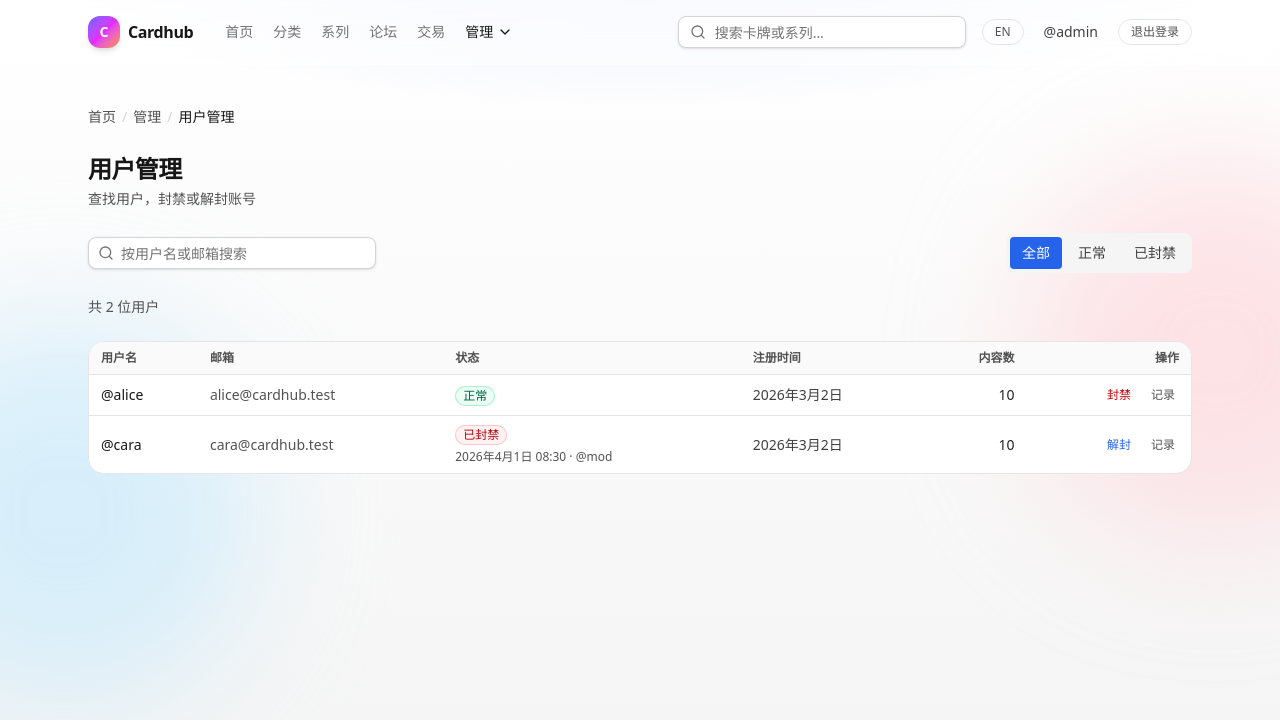
Scenario: AdminUsersPage dialog focus return › returns focus to the row button after mouse open and cancel close
The width and height of the screenshot is (1280, 720).
Click the button with aria-label "封禁 @alice".
click(1119, 395)  # box [1103,383,1135,407]
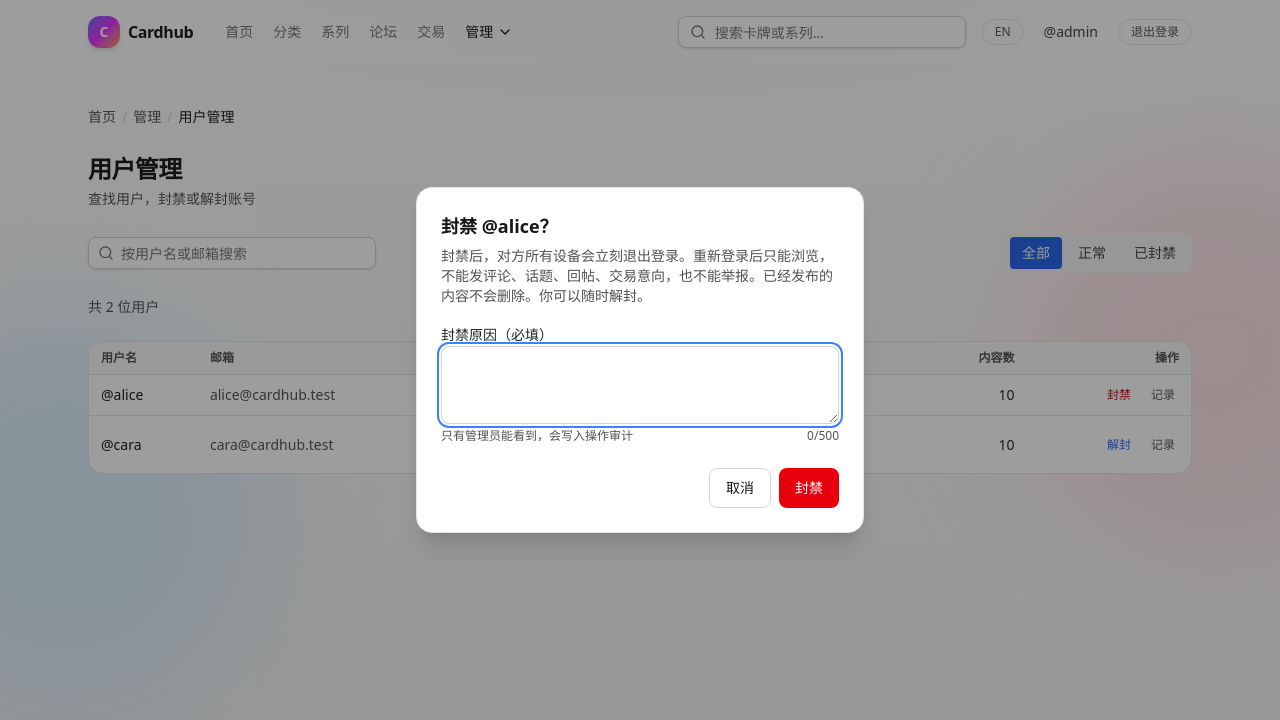
Expected: the dialog is shown, [416,187,864,533]
Click the button "取消".
click(740, 488)  # box [709,468,771,508]
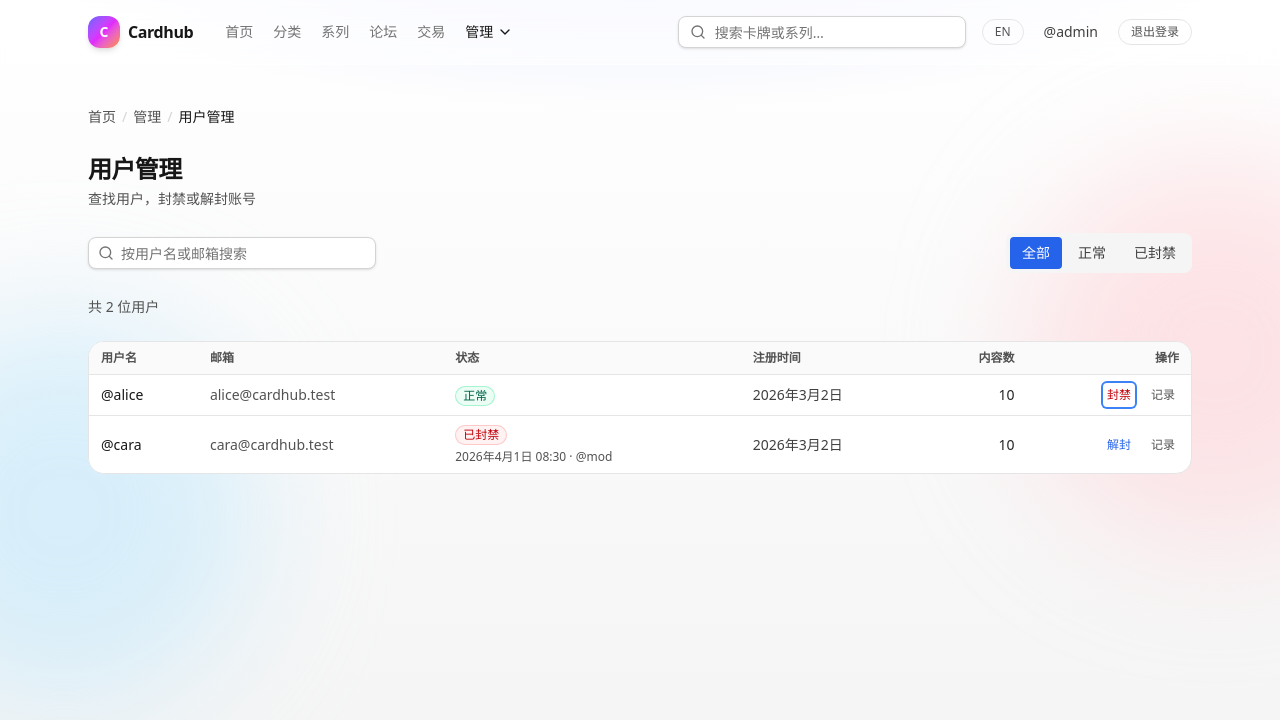
Expected: the dialog is gone
